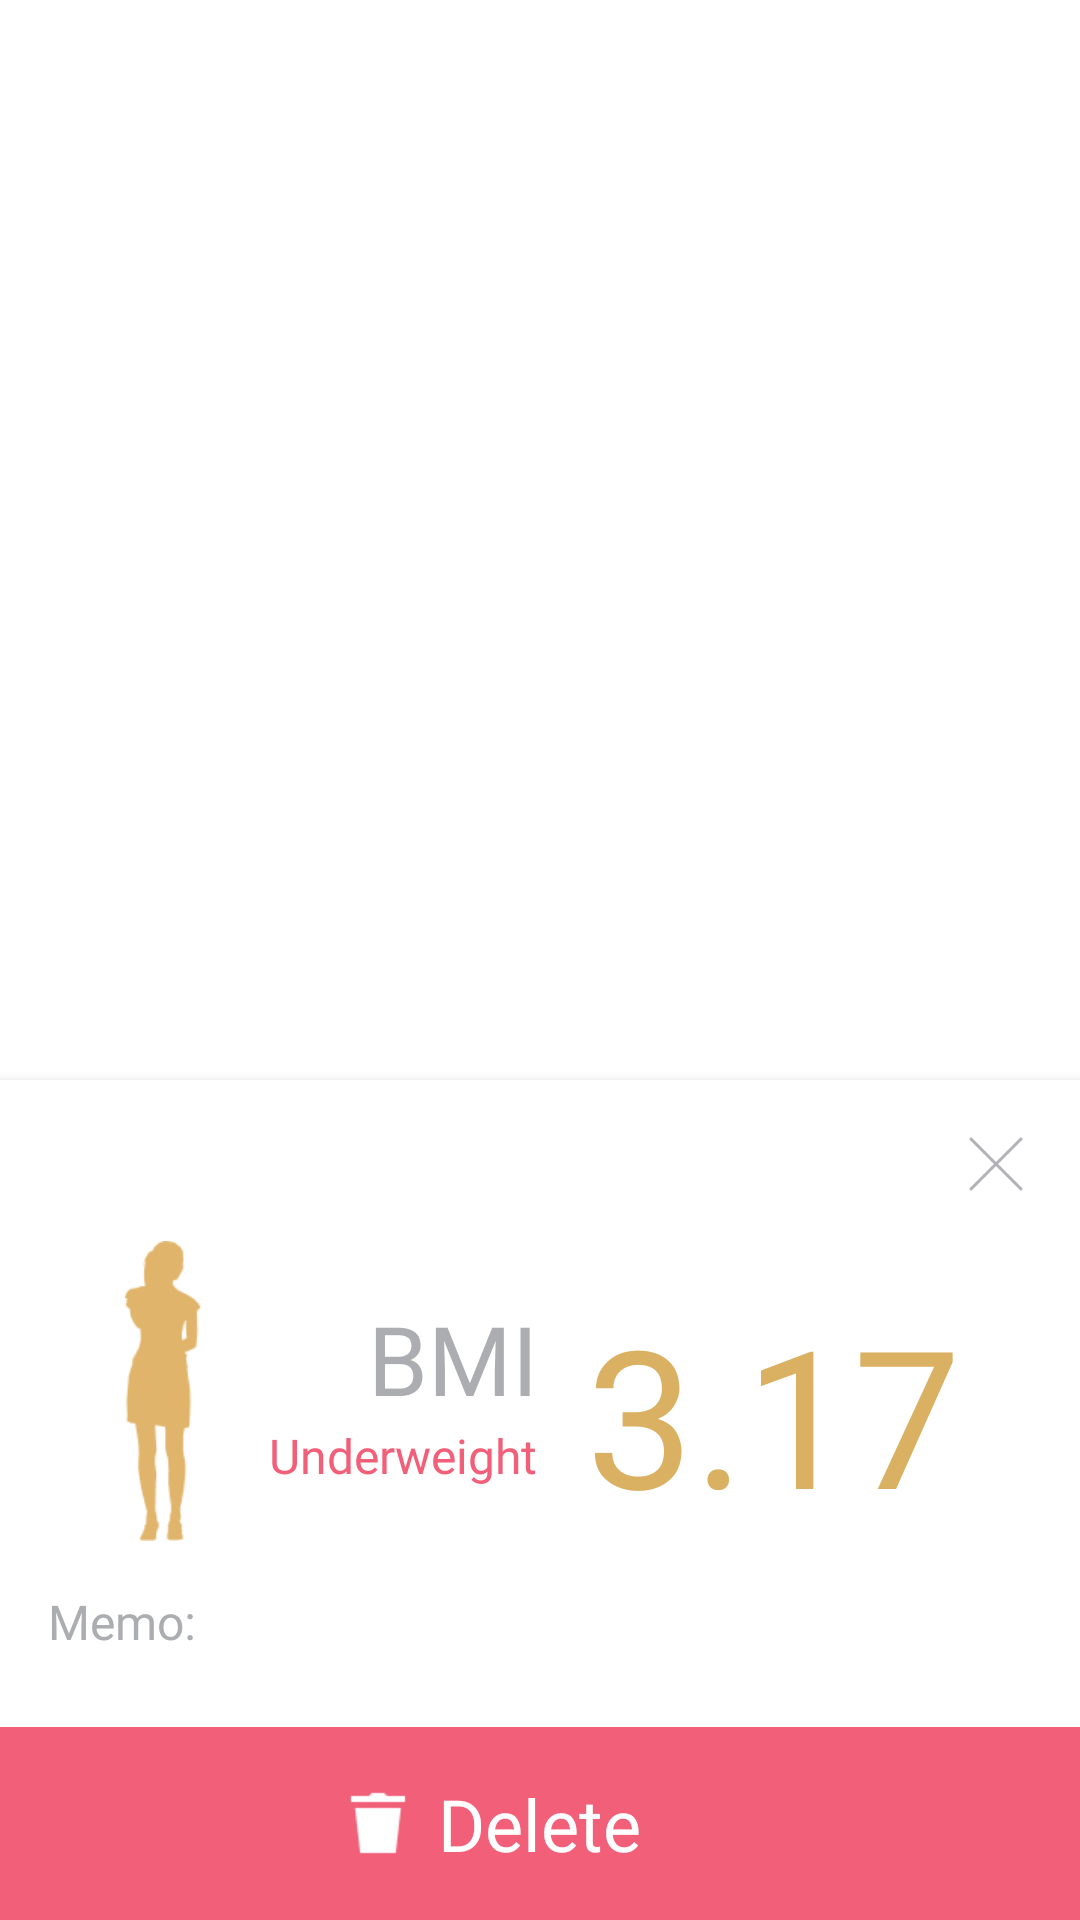

Screen size 1080 x 1920. Icon name, then its box in pixels as (x1, y1, x2, y2):
female gender on: (125, 1241, 201, 1541)
